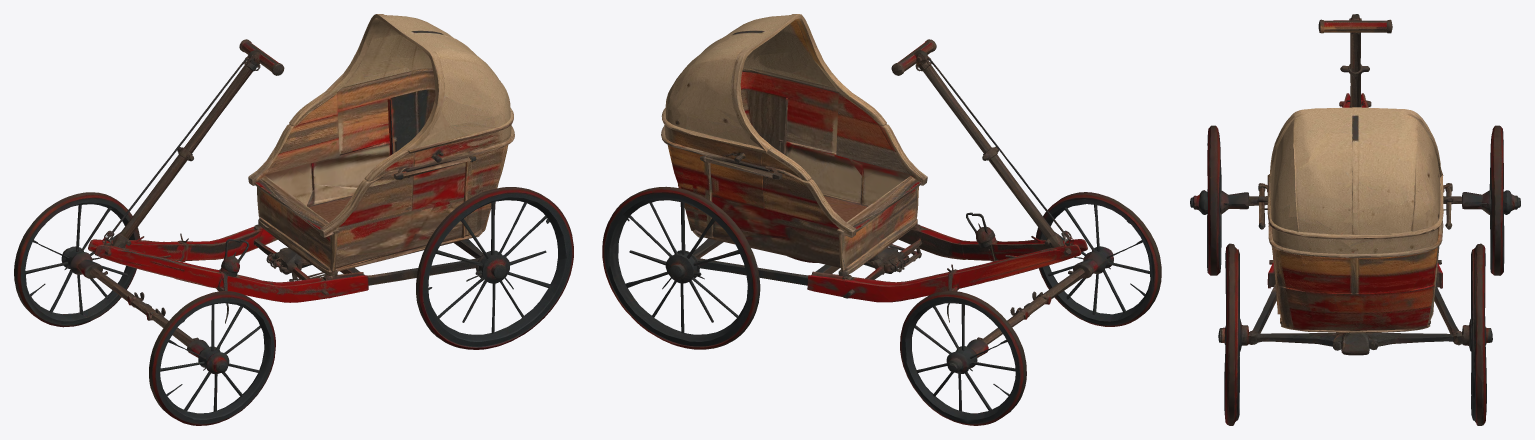
Rendered from chariot.glb.
The picture shows the model from 3 angles, left to right: view 1: azimuth 30°, elevation 25°; view 2: azimuth 150°, elevation 25°; view 3: azimuth 270°, elevation 25°; orthographic projection. The views are drawn at different scales.
Bounding box in the file's own units: 1.9 × 1.25 × 1.21.
1 material, 1 textured.
